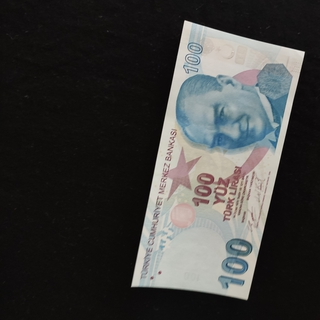100TLFront: (130, 19, 305, 302)
